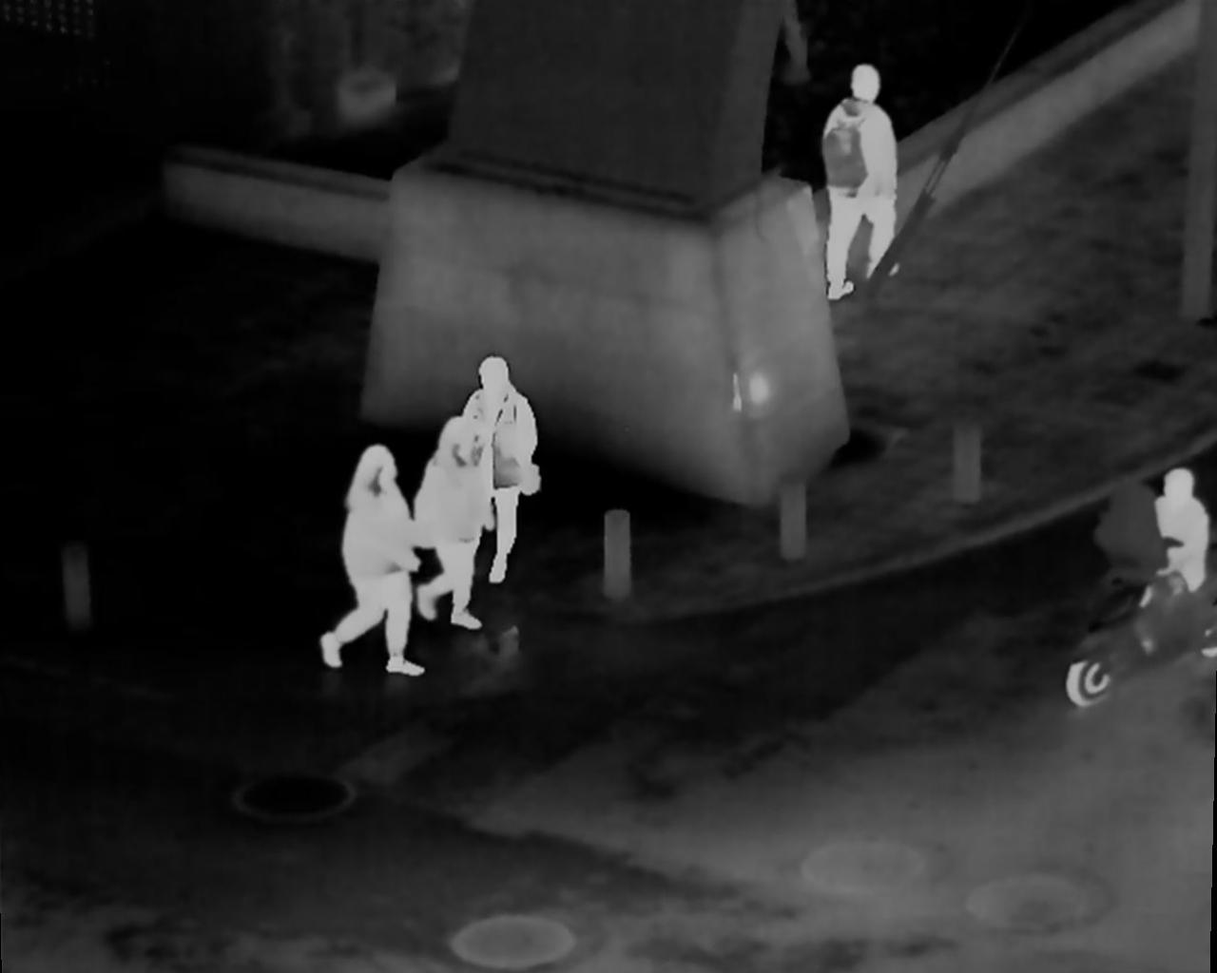person: (319, 444, 431, 678), (1129, 465, 1217, 673), (459, 352, 536, 584), (830, 61, 898, 310), (424, 410, 492, 630)
